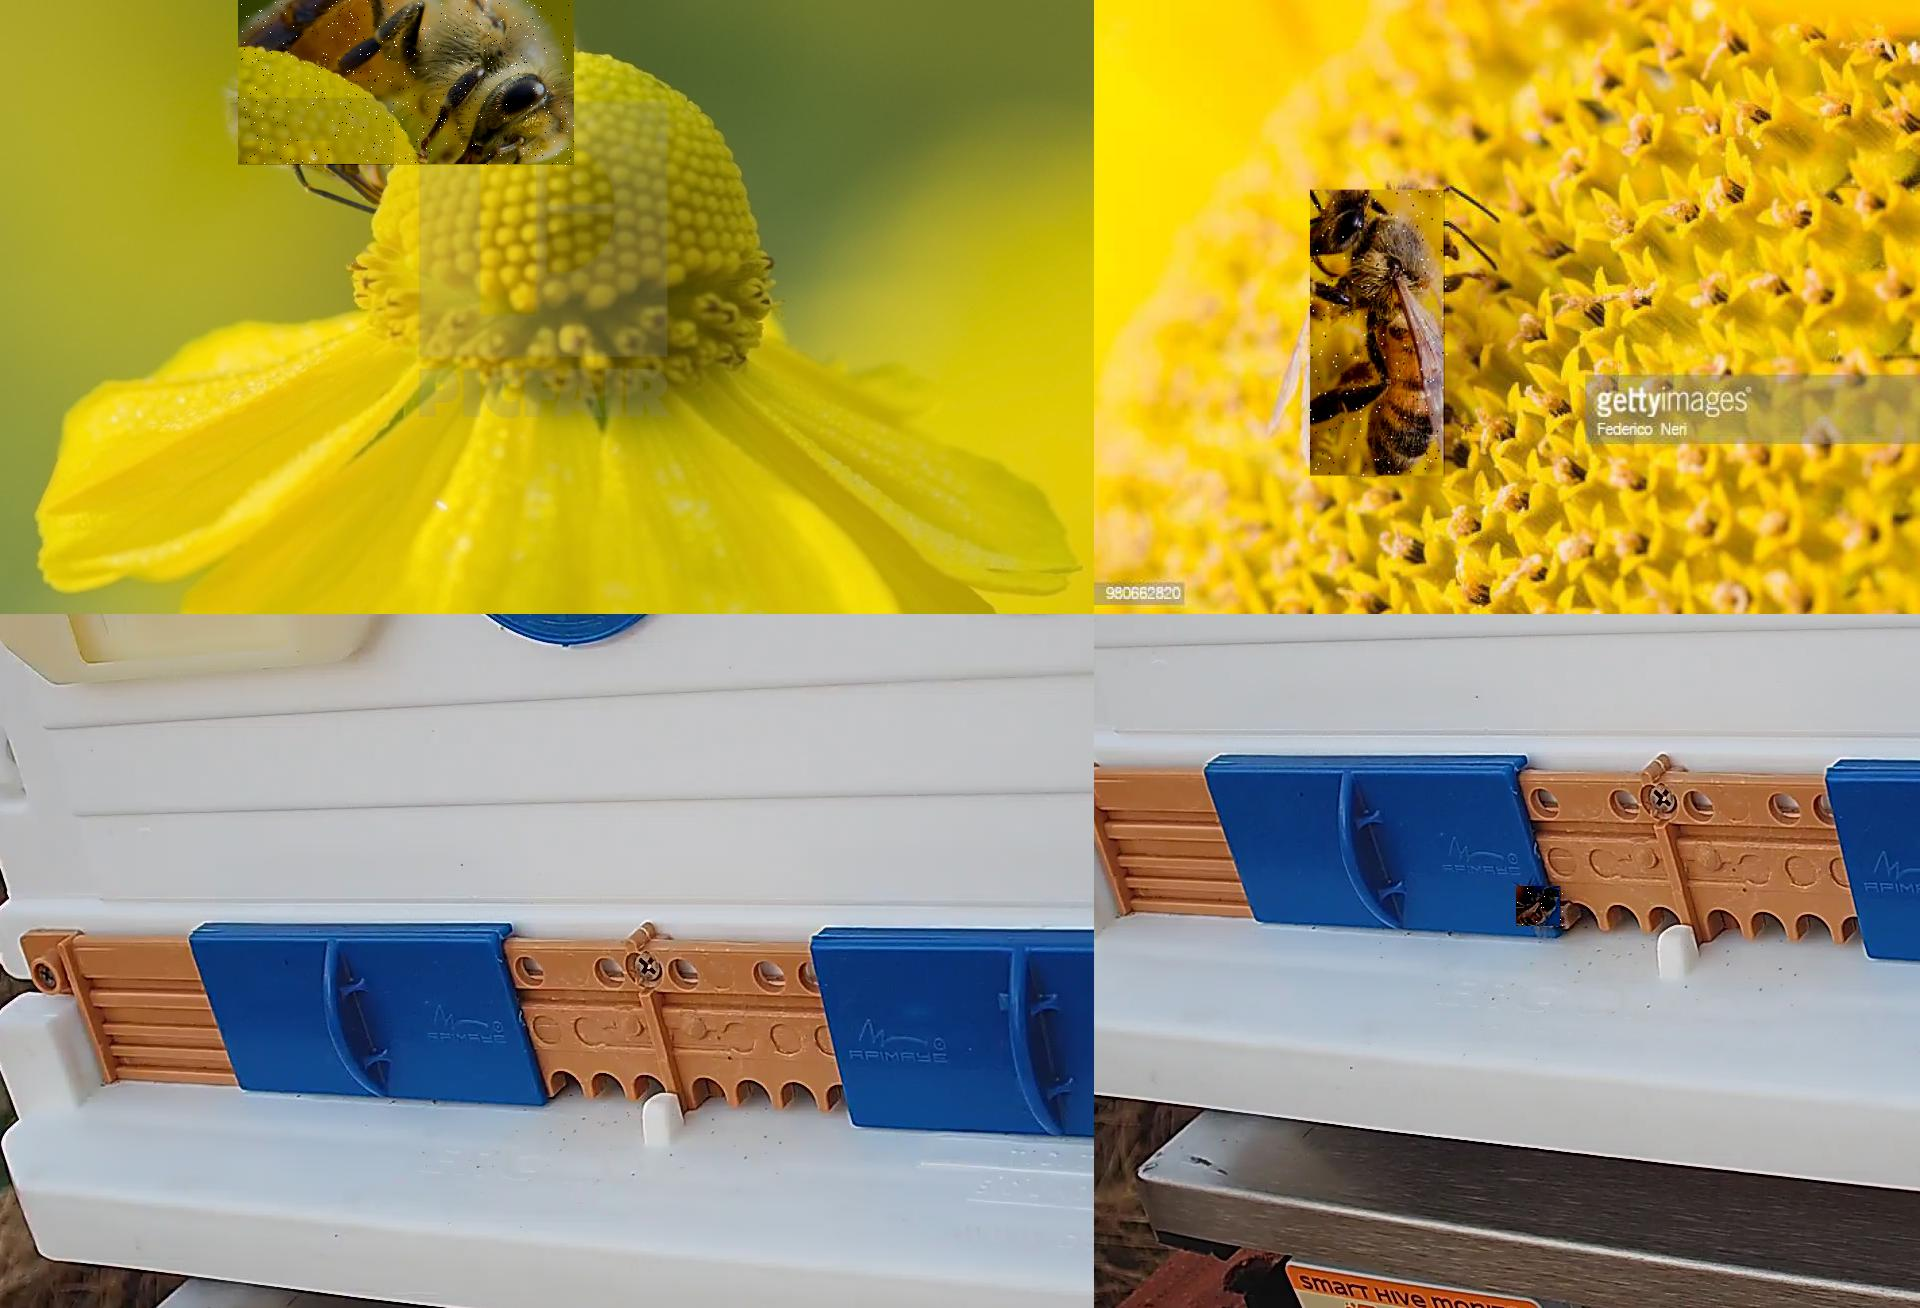bee: (238, 0, 576, 169), (1312, 190, 1450, 477), (1517, 887, 1565, 927)
